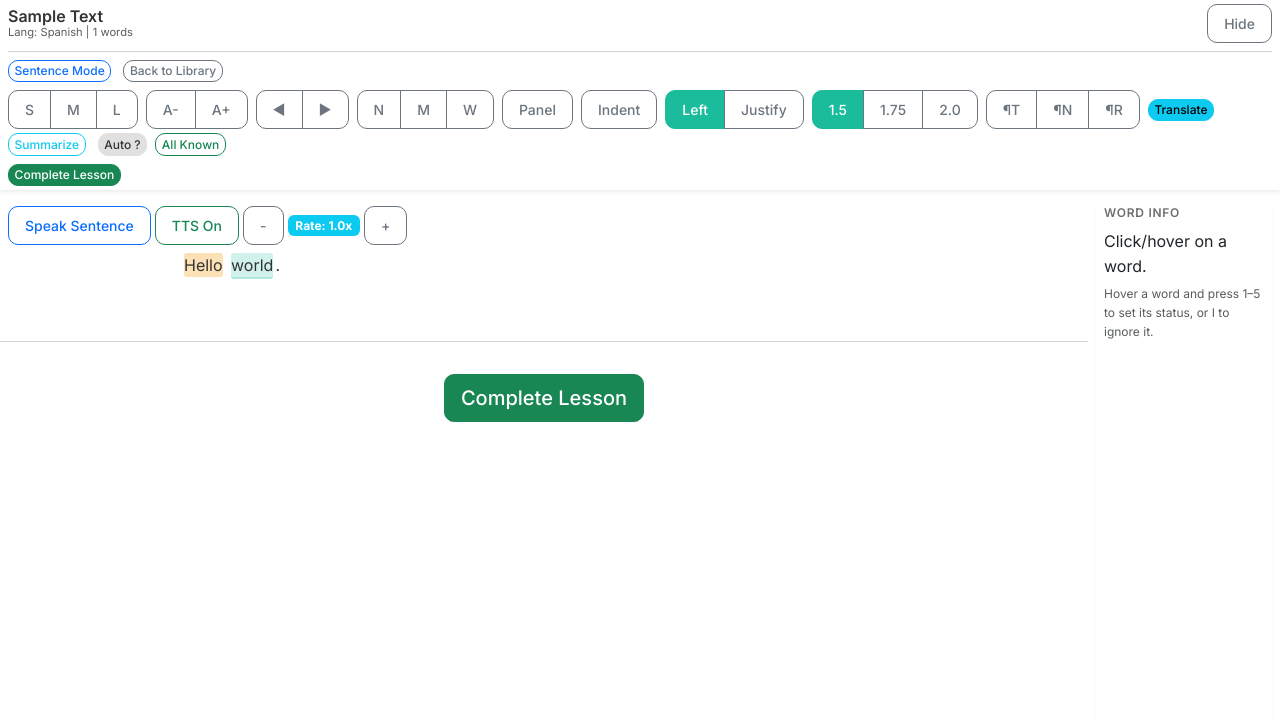
Test: TextDisplay › an edited translation shows as not saved until Enter saves it
Click the text "Hello" at (203, 265), box [184, 253, 223, 277]
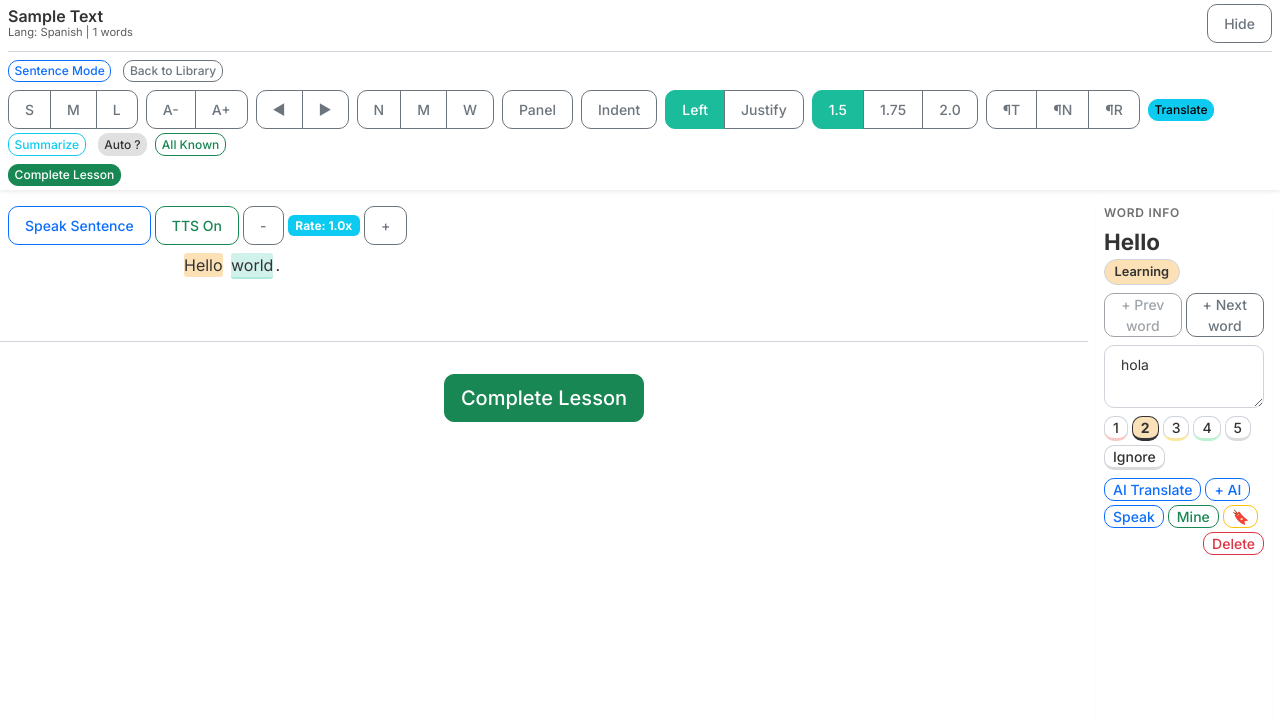
Replace the text in the text box named "Translation" with "hola, buenas" at (1184, 376), box [1104, 345, 1264, 408]
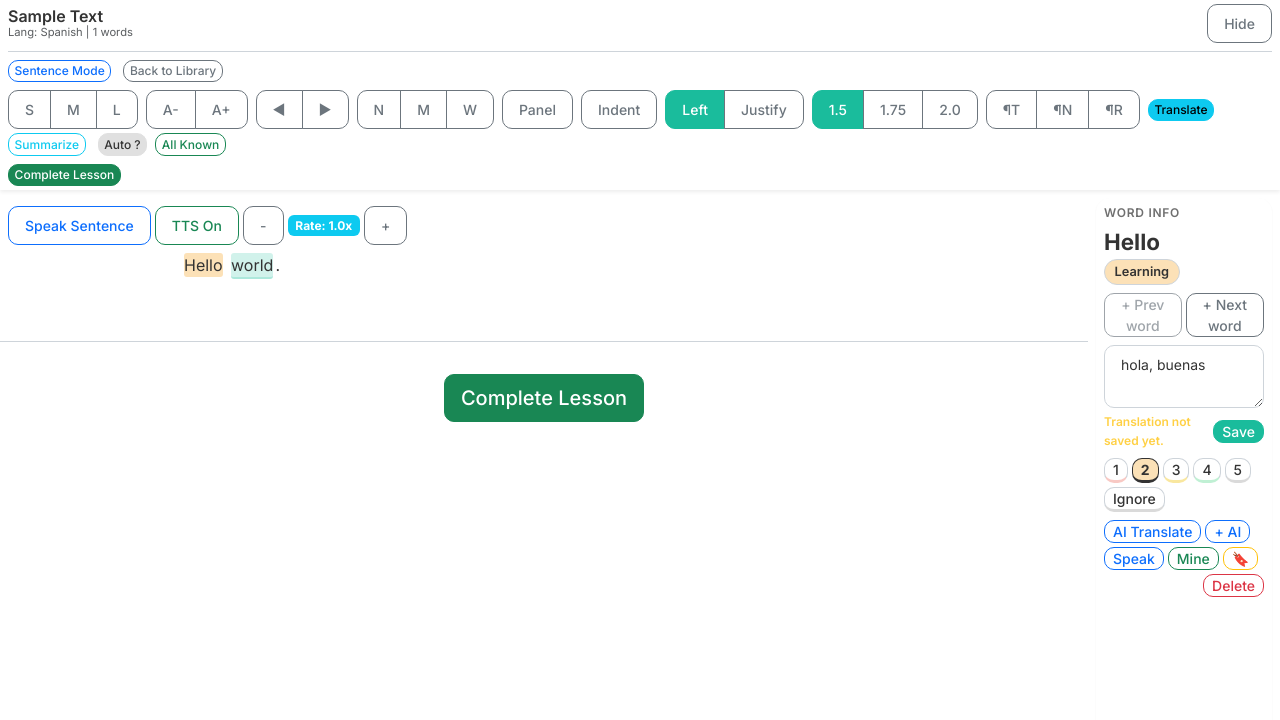
expect the text "Translation not saved yet." is shown: met, box [1104, 414, 1191, 448]
Press Enter in the text box named "Translation", box [1104, 345, 1264, 408]
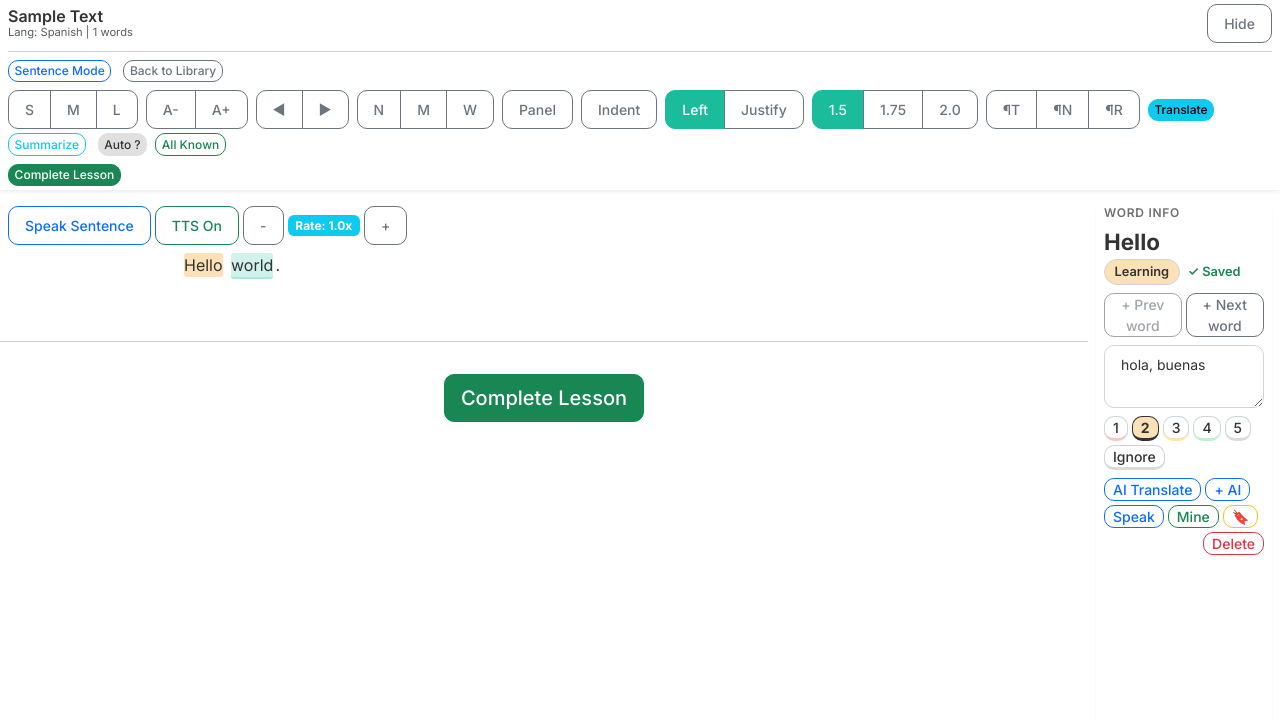
expect the text "Translation not saved yet" is gone: met
